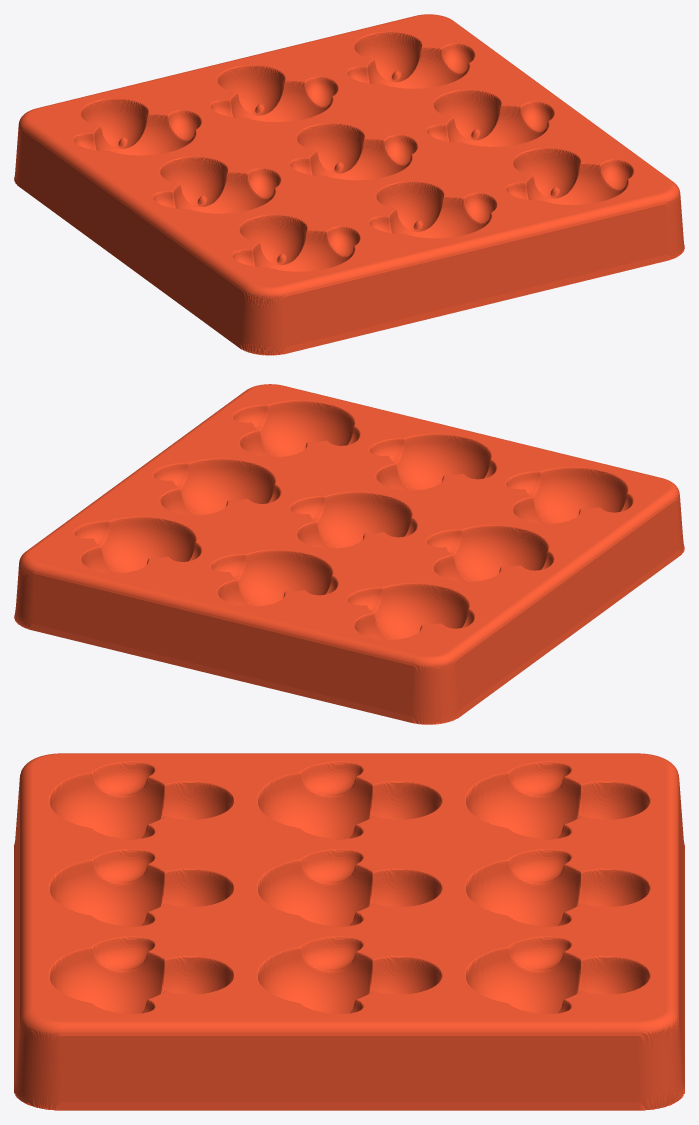
The model's file is mold.glb.
3 views of the same model, one above another, from view 1: azimuth 30°, elevation 25°; view 2: azimuth 150°, elevation 25°; view 3: azimuth 270°, elevation 25° (orthographic). The views are drawn at different scales.
Visible parts, largest first — view 1: geometry_0; view 2: geometry_0; view 3: geometry_0.
Part boxes in pixels (x1=…): geometry_0: x1=14, y1=14, x2=684, y2=355; geometry_0: x1=14, y1=384, x2=684, y2=724; geometry_0: x1=14, y1=753, x2=684, y2=1110.
Bounding box in the file's own units: 0.129 × 0.0174 × 0.1297.
